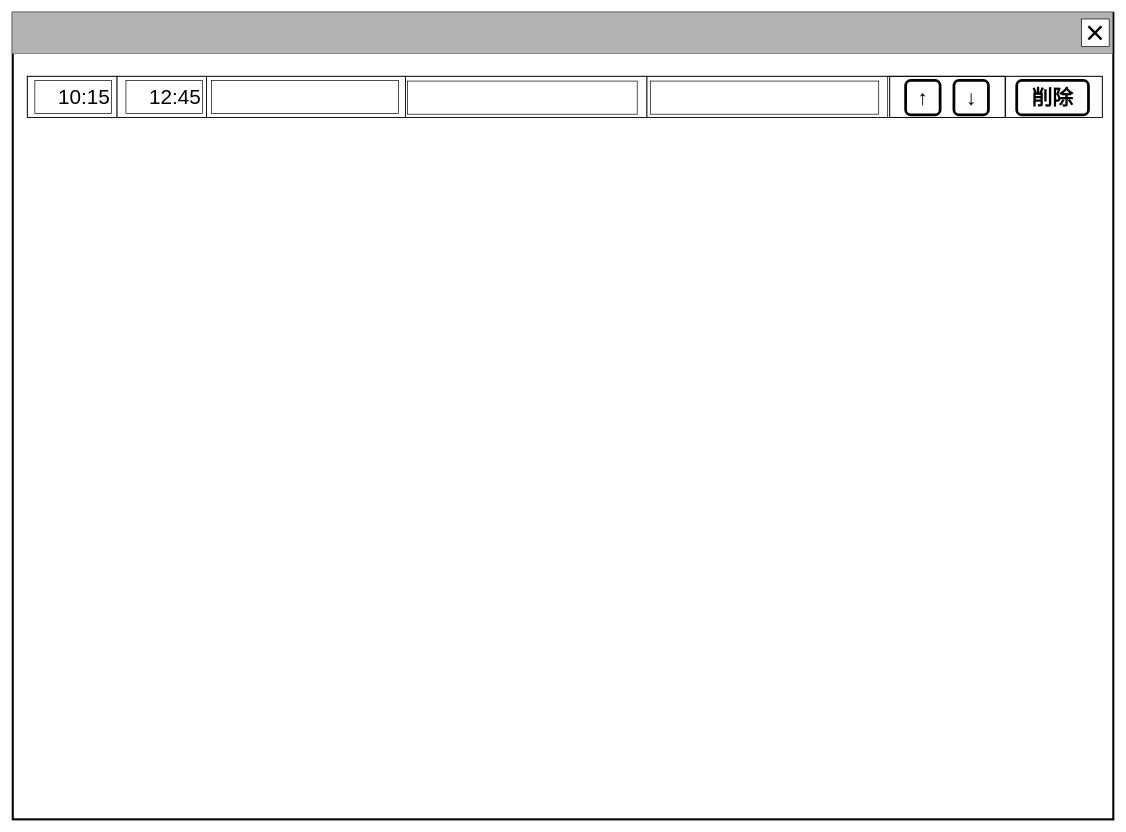
Some shapes in this 1126 by 832 pixel diagram are drawn without their labels. The shapes that lost their labels are listed below. From the top down, each one's box as (x1, y1, x2, y2) in pixels, then its label:
(211, 80, 398, 114): xx市場視察(1)
(407, 80, 637, 114): ▼弁当代-1,000×120
(650, 80, 879, 114): ▼参加費 10,000×100
